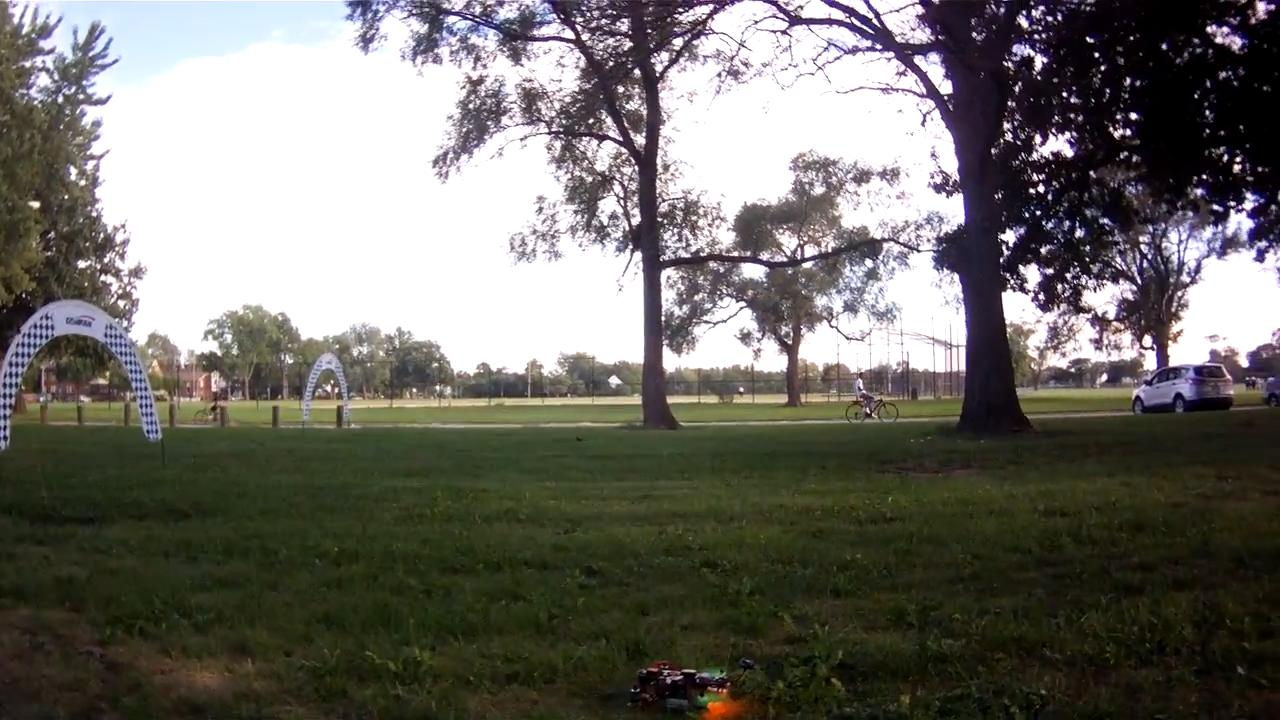gate: (1, 299, 165, 449)
